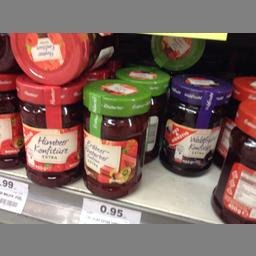jam: (81, 79, 152, 199), (158, 70, 232, 176), (15, 76, 82, 188), (8, 32, 119, 85), (212, 98, 254, 223)
